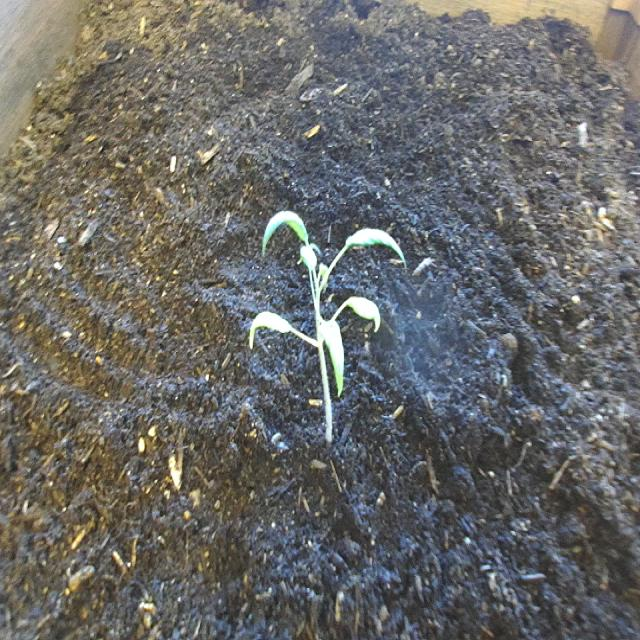Healthy: (248, 205, 409, 450)
